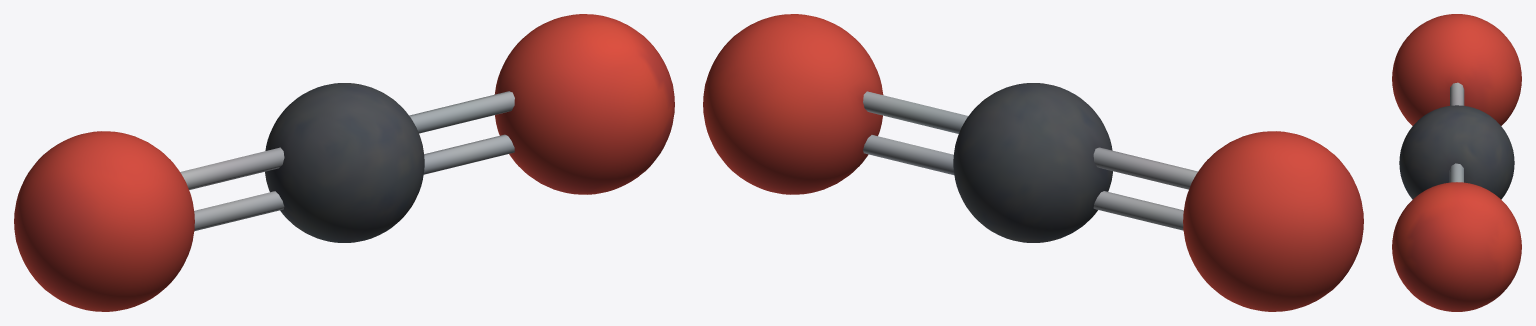
File: co2-molecule.glb
The picture shows the model from 3 angles, left to right: view 1: azimuth 30°, elevation 25°; view 2: azimuth 150°, elevation 25°; view 3: azimuth 270°, elevation 25°; orthographic projection. The views are drawn at different scales.
Parts seen in each view (by area): view 1: co2-molecule-oxygen, co2-molecule-carbon, co2-molecule-bonds; view 2: co2-molecule-oxygen, co2-molecule-carbon, co2-molecule-bonds; view 3: co2-molecule-oxygen, co2-molecule-carbon, co2-molecule-bonds.
Part boxes in pixels (bbox=[...]): co2-molecule-oxygen: bbox=[14, 14, 674, 311]; co2-molecule-carbon: bbox=[265, 83, 424, 242]; co2-molecule-bonds: bbox=[180, 91, 514, 231]; co2-molecule-oxygen: bbox=[703, 14, 1363, 311]; co2-molecule-carbon: bbox=[953, 83, 1112, 242]; co2-molecule-bonds: bbox=[863, 91, 1197, 230]; co2-molecule-oxygen: bbox=[1392, 14, 1521, 311]; co2-molecule-carbon: bbox=[1399, 105, 1514, 199]; co2-molecule-bonds: bbox=[1449, 82, 1464, 182].
Size of what is drawn, in the model's own units: 5.04 by 1.24 by 1.24.
